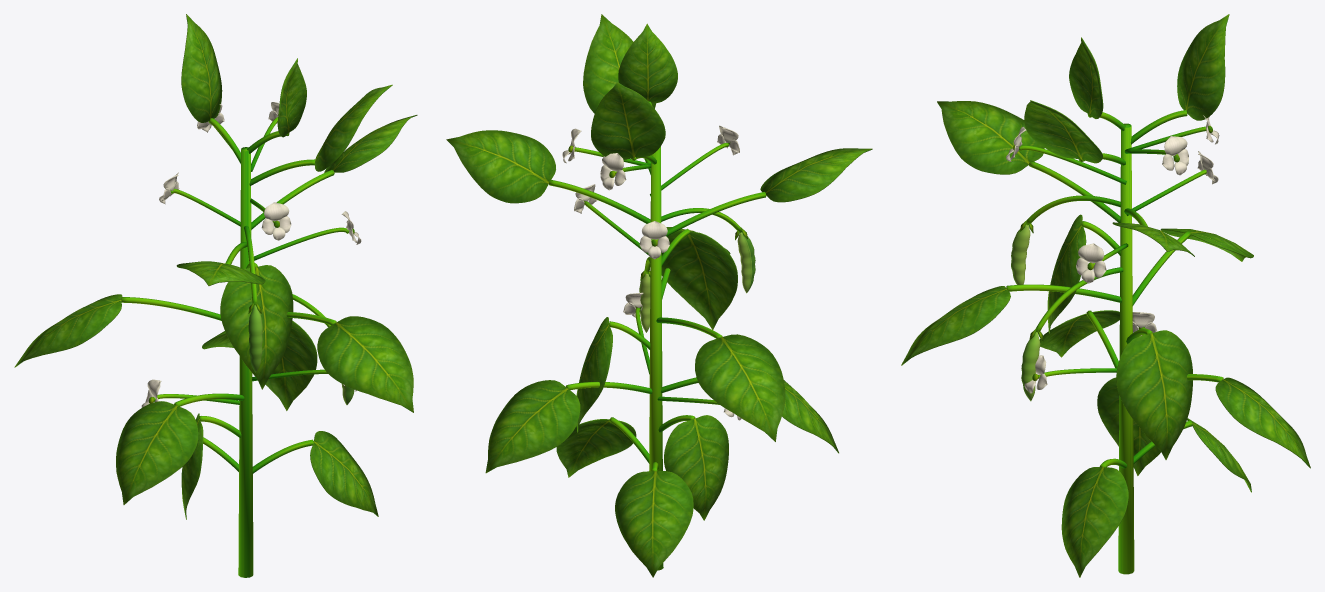
Rendered from NP_GreenBean_Flowering.fbx.
3 views of the same model, side by side, from view 1: azimuth 30°, elevation 25°; view 2: azimuth 150°, elevation 25°; view 3: azimuth 270°, elevation 25° (orthographic). The views are drawn at different scales.
Parts seen in each view (by area): view 1: NP_GreenBean_Flowering; view 2: NP_GreenBean_Flowering; view 3: NP_GreenBean_Flowering.
Boxes of the visible parts, left/top/right/bottom form: NP_GreenBean_Flowering: left=14, top=14, right=417, bottom=577; NP_GreenBean_Flowering: left=446, top=14, right=872, bottom=577; NP_GreenBean_Flowering: left=901, top=14, right=1310, bottom=577.
Size of the model in its own units: 77.28 by 106 by 71.34.
